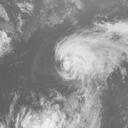cyclone: (54, 32, 109, 80)
